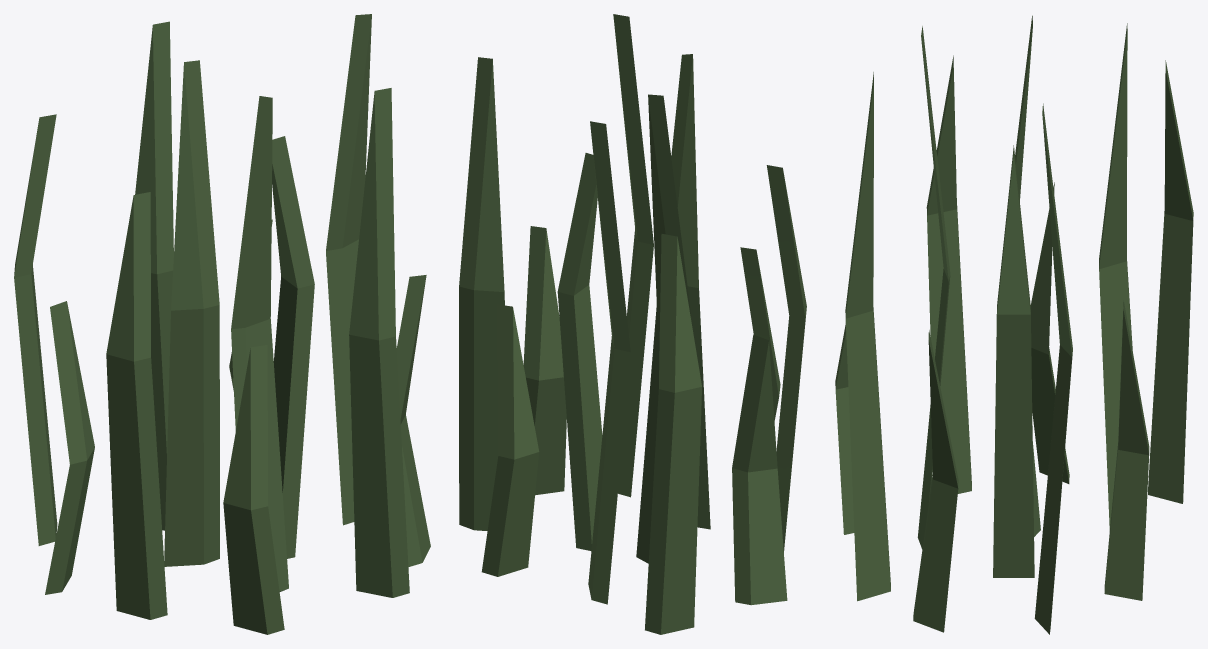
The model's file is Grass_Short.fbx.
3 views of the same model, side by side, from view 1: azimuth 30°, elevation 25°; view 2: azimuth 150°, elevation 25°; view 3: azimuth 270°, elevation 25° (orthographic). The views are drawn at different scales.
Parts seen in each view (by area): view 1: Grass; view 2: Grass; view 3: Grass.
Boxes of the visible parts, bbox=[...] form: Grass: bbox=[14, 14, 430, 634]; Grass: bbox=[459, 14, 806, 634]; Grass: bbox=[835, 15, 1193, 634].
Size of the model in its own units: 37.38 by 52.18 by 32.72.
